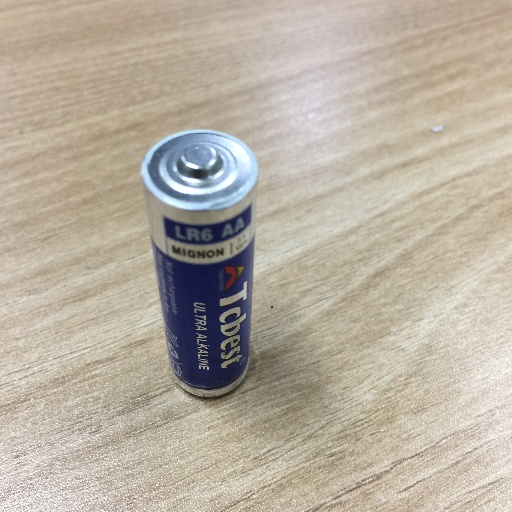Battery_0: (133, 111, 278, 413)
